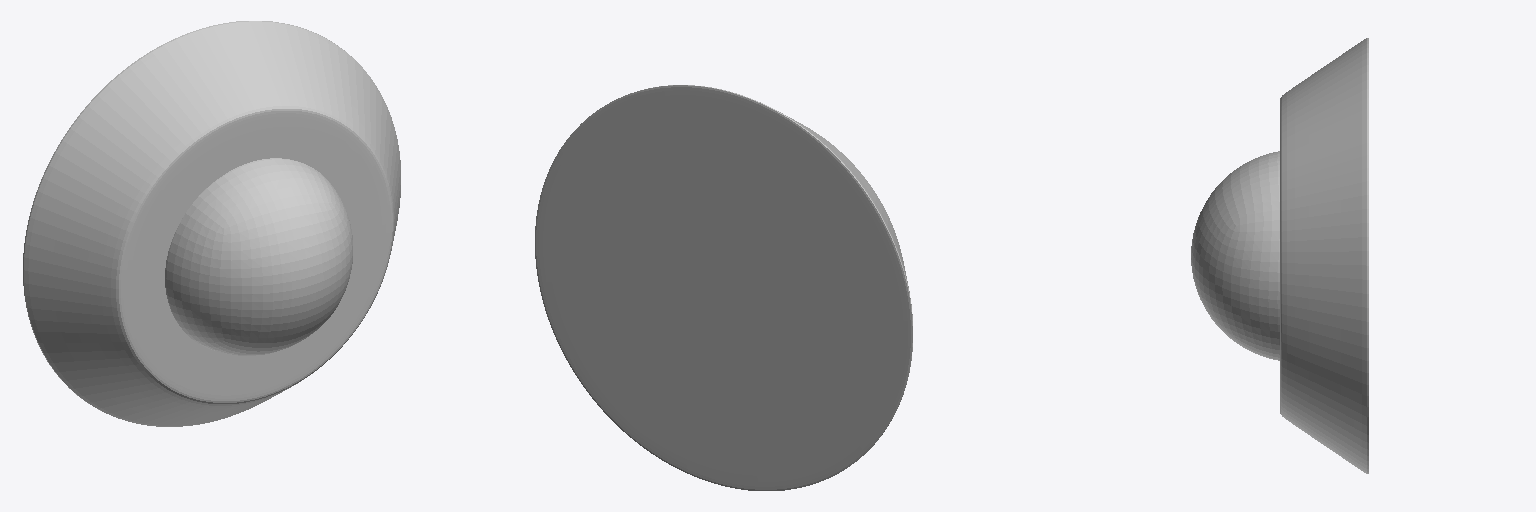
The model's file is laserSwitch.obj.
3 renders of one model, left to right at view 1: azimuth 30°, elevation 25°; view 2: azimuth 150°, elevation 25°; view 3: azimuth 270°, elevation 25°, orthographic.
Visible parts, largest first — view 1: Circle, Roundcube; view 2: Circle; view 3: Circle, Roundcube.
Part boxes in pixels (left/top/right/bottom): Circle: left=23, top=21, right=400, bottom=426; Roundcube: left=165, top=158, right=352, bottom=355; Circle: left=535, top=85, right=912, bottom=490; Circle: left=1280, top=38, right=1368, bottom=473; Roundcube: left=1191, top=151, right=1279, bottom=360.
Size of the model in its own units: 0.9791 by 0.9791 by 0.3994.